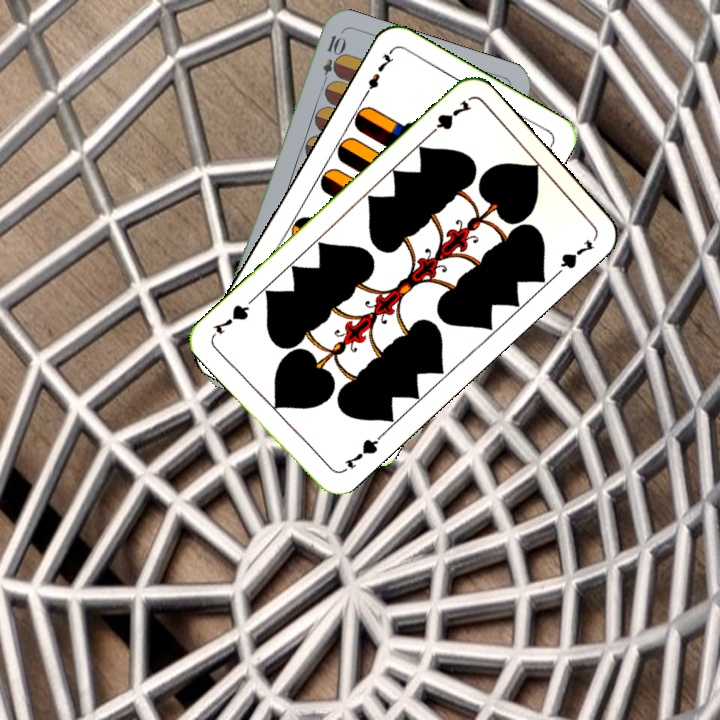E10: (318, 31, 346, 90)
E7: (359, 47, 396, 101)
G7: (422, 96, 474, 141), (337, 431, 385, 475)
